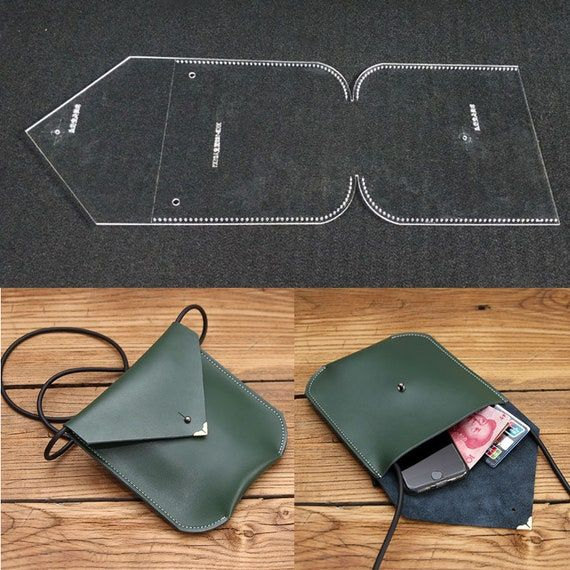cuero: (63, 321, 507, 530)
